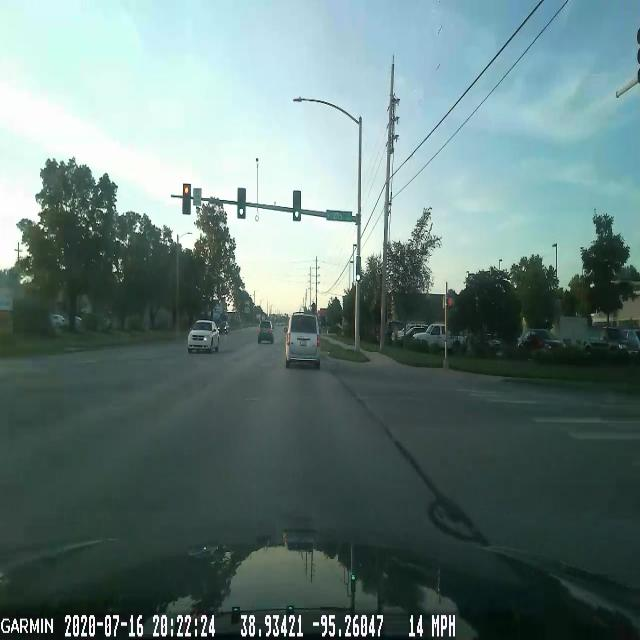Pothole: (422, 487, 492, 548)
